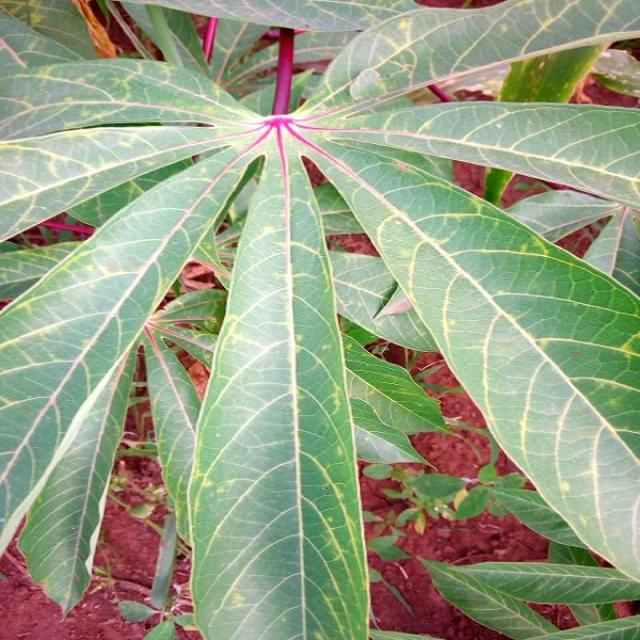cassava leaf: (0, 1, 638, 635), (186, 126, 371, 638)
